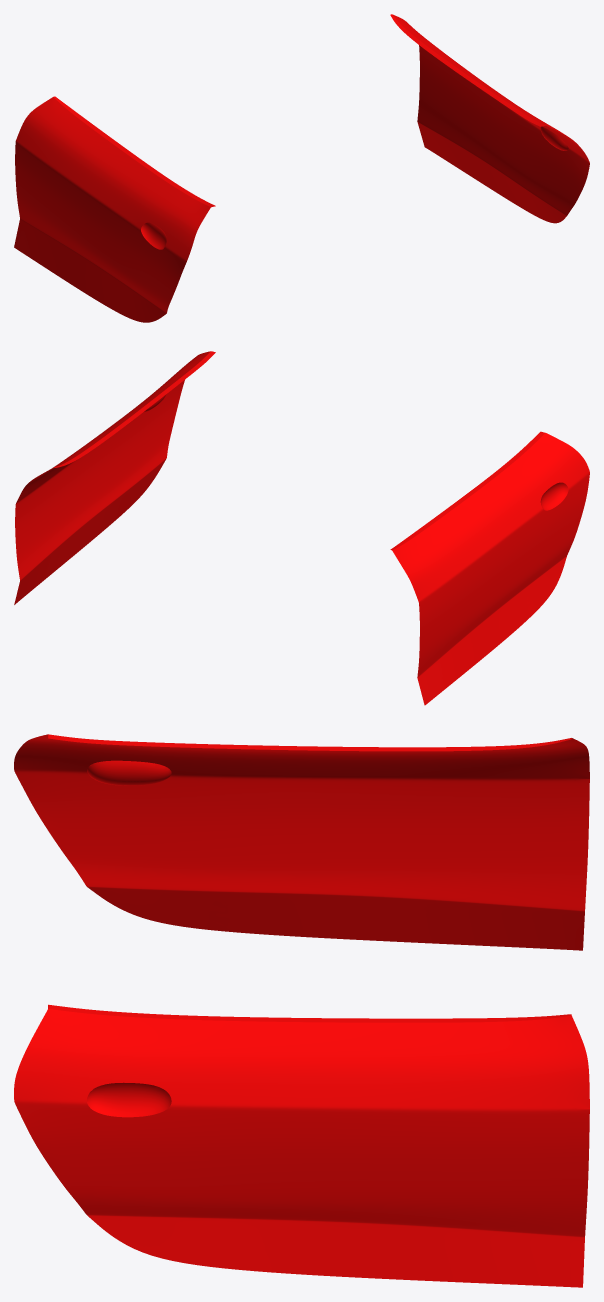
File: MK5doors.glb
The picture shows the model from 3 angles, top to bottom: view 1: azimuth 30°, elevation 25°; view 2: azimuth 150°, elevation 25°; view 3: azimuth 270°, elevation 25°; orthographic projection. The views are drawn at different scales.
Parts seen in each view (by area): view 1: Object_29; view 2: Object_29; view 3: Object_29.
Part boxes in pixels (box(x1,y1,x2,y2)): Object_29: box(14, 14, 589, 322); Object_29: box(14, 351, 589, 705); Object_29: box(14, 734, 589, 1287).
Bounding box in the file's own units: 1.26 × 0.4309 × 0.9084.
